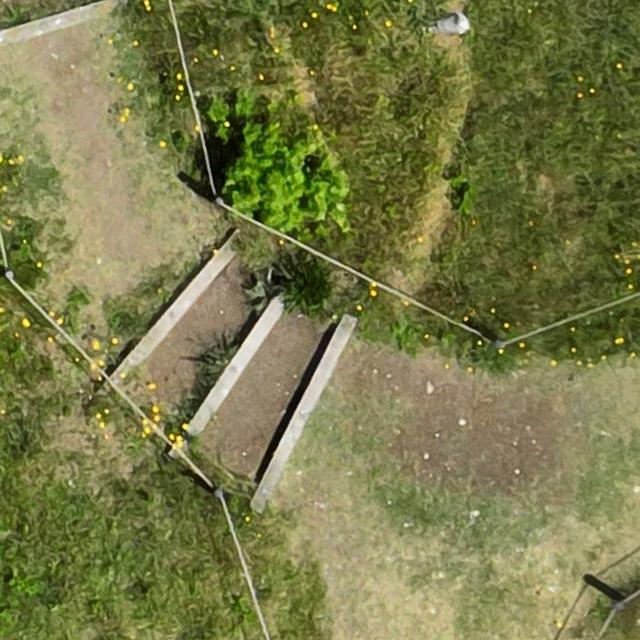umineko: (440, 16, 472, 34)
